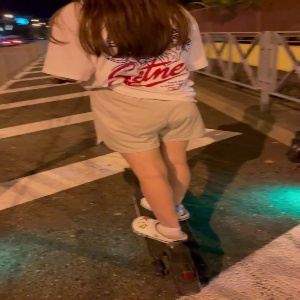human on a scooter: (41, 1, 210, 296)
